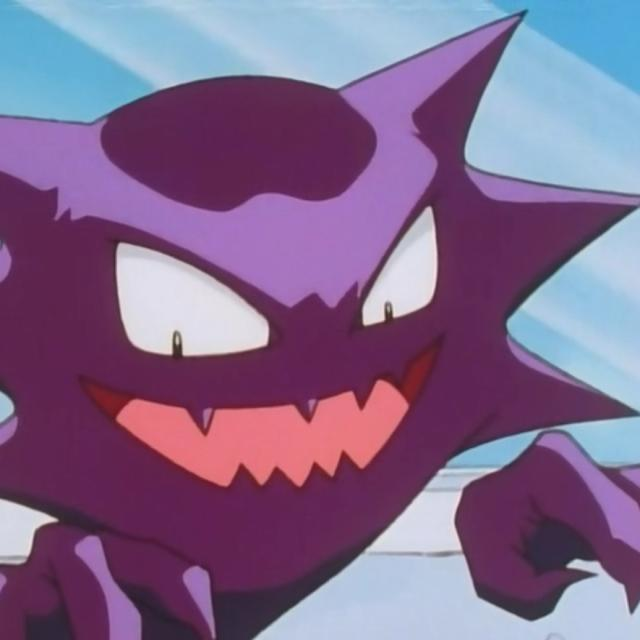Haunter: (1, 2, 640, 640)
